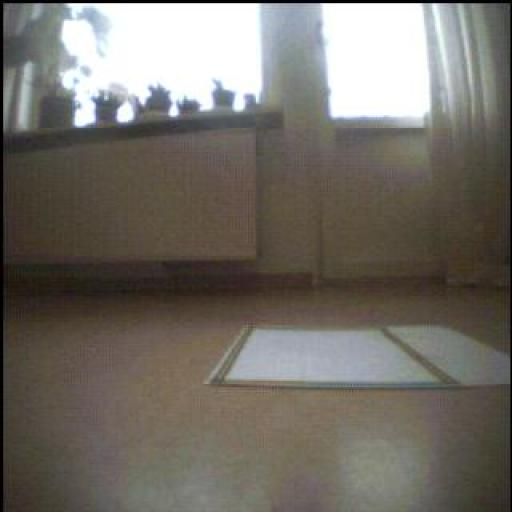Pad: (208, 327, 512, 390)
